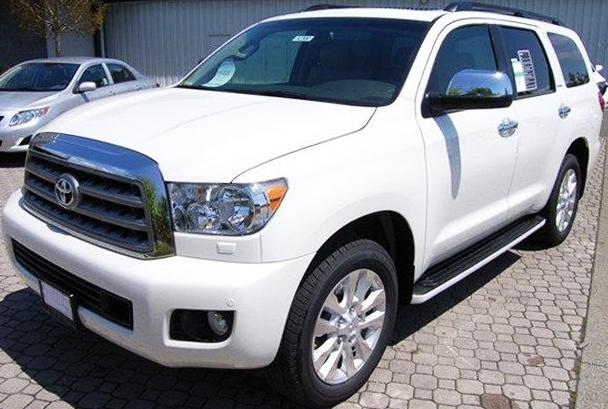front_view: (12, 136, 301, 358)
headlight: (158, 177, 292, 240)
side_glass: (433, 20, 550, 92)
